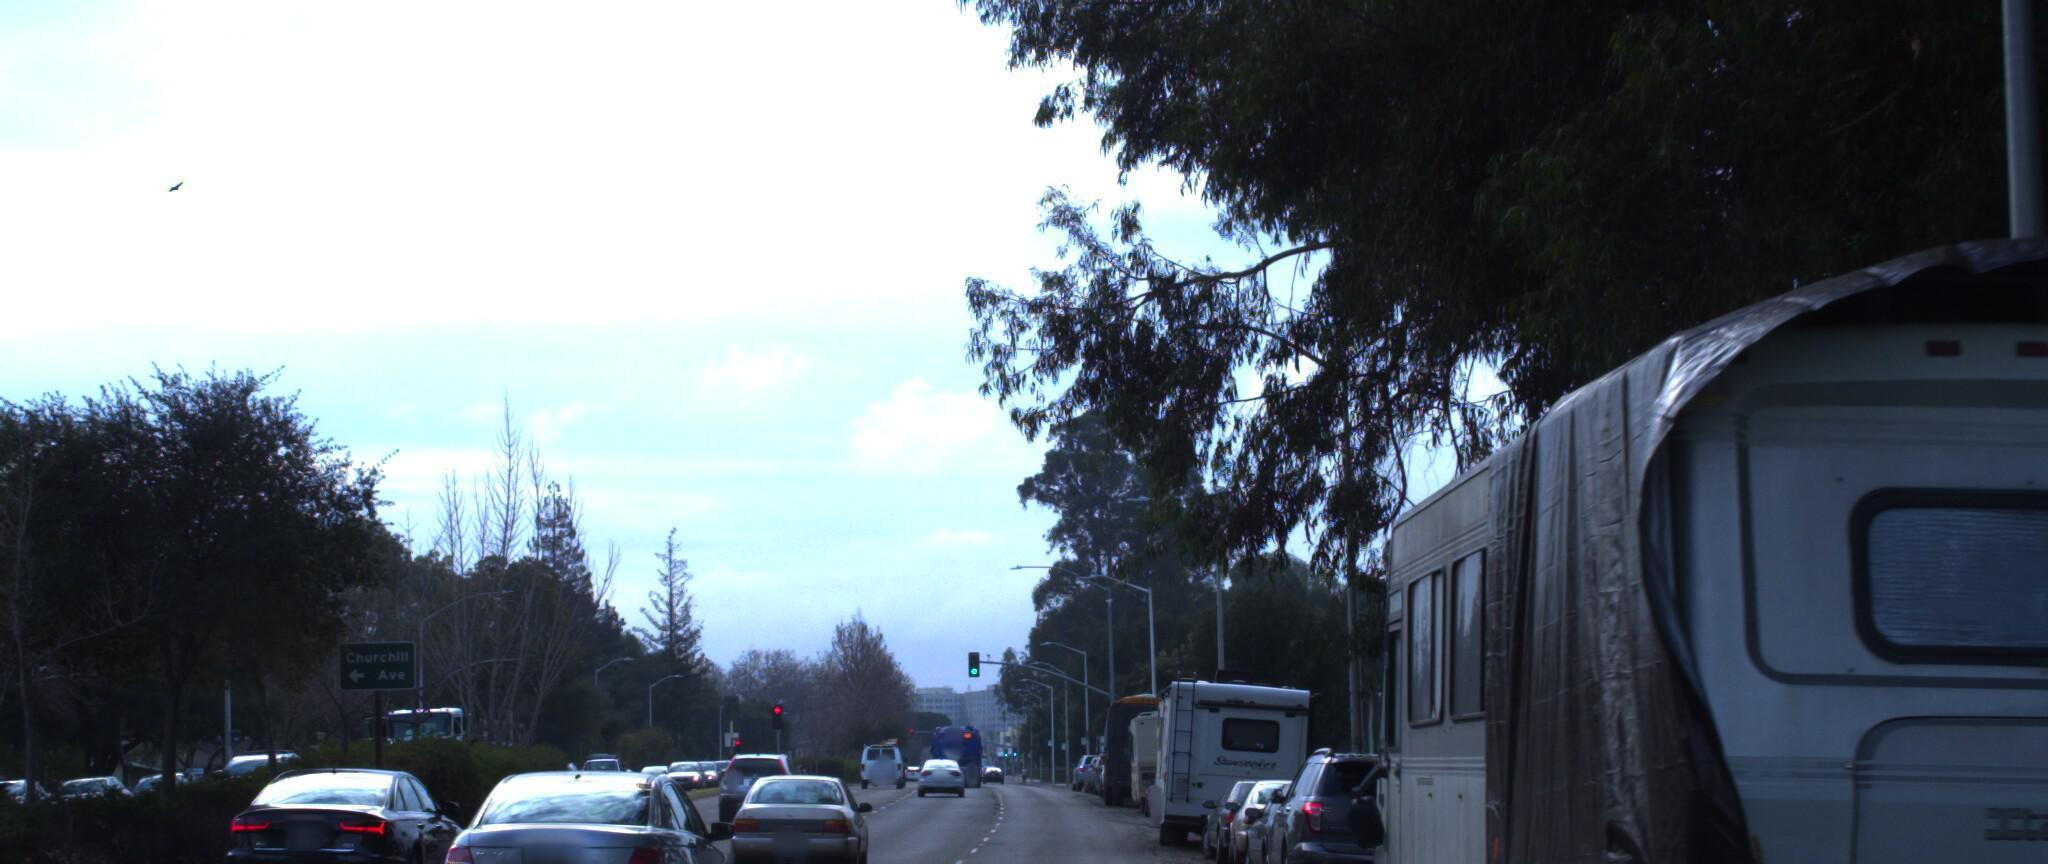car: (406, 752, 758, 864), (1249, 718, 1482, 864), (214, 754, 482, 864), (724, 753, 876, 864), (1896, 817, 2048, 864), (718, 736, 812, 809)
other_vehicle: (1339, 210, 2048, 864), (1139, 650, 1323, 837)
truck: (342, 698, 536, 797)
